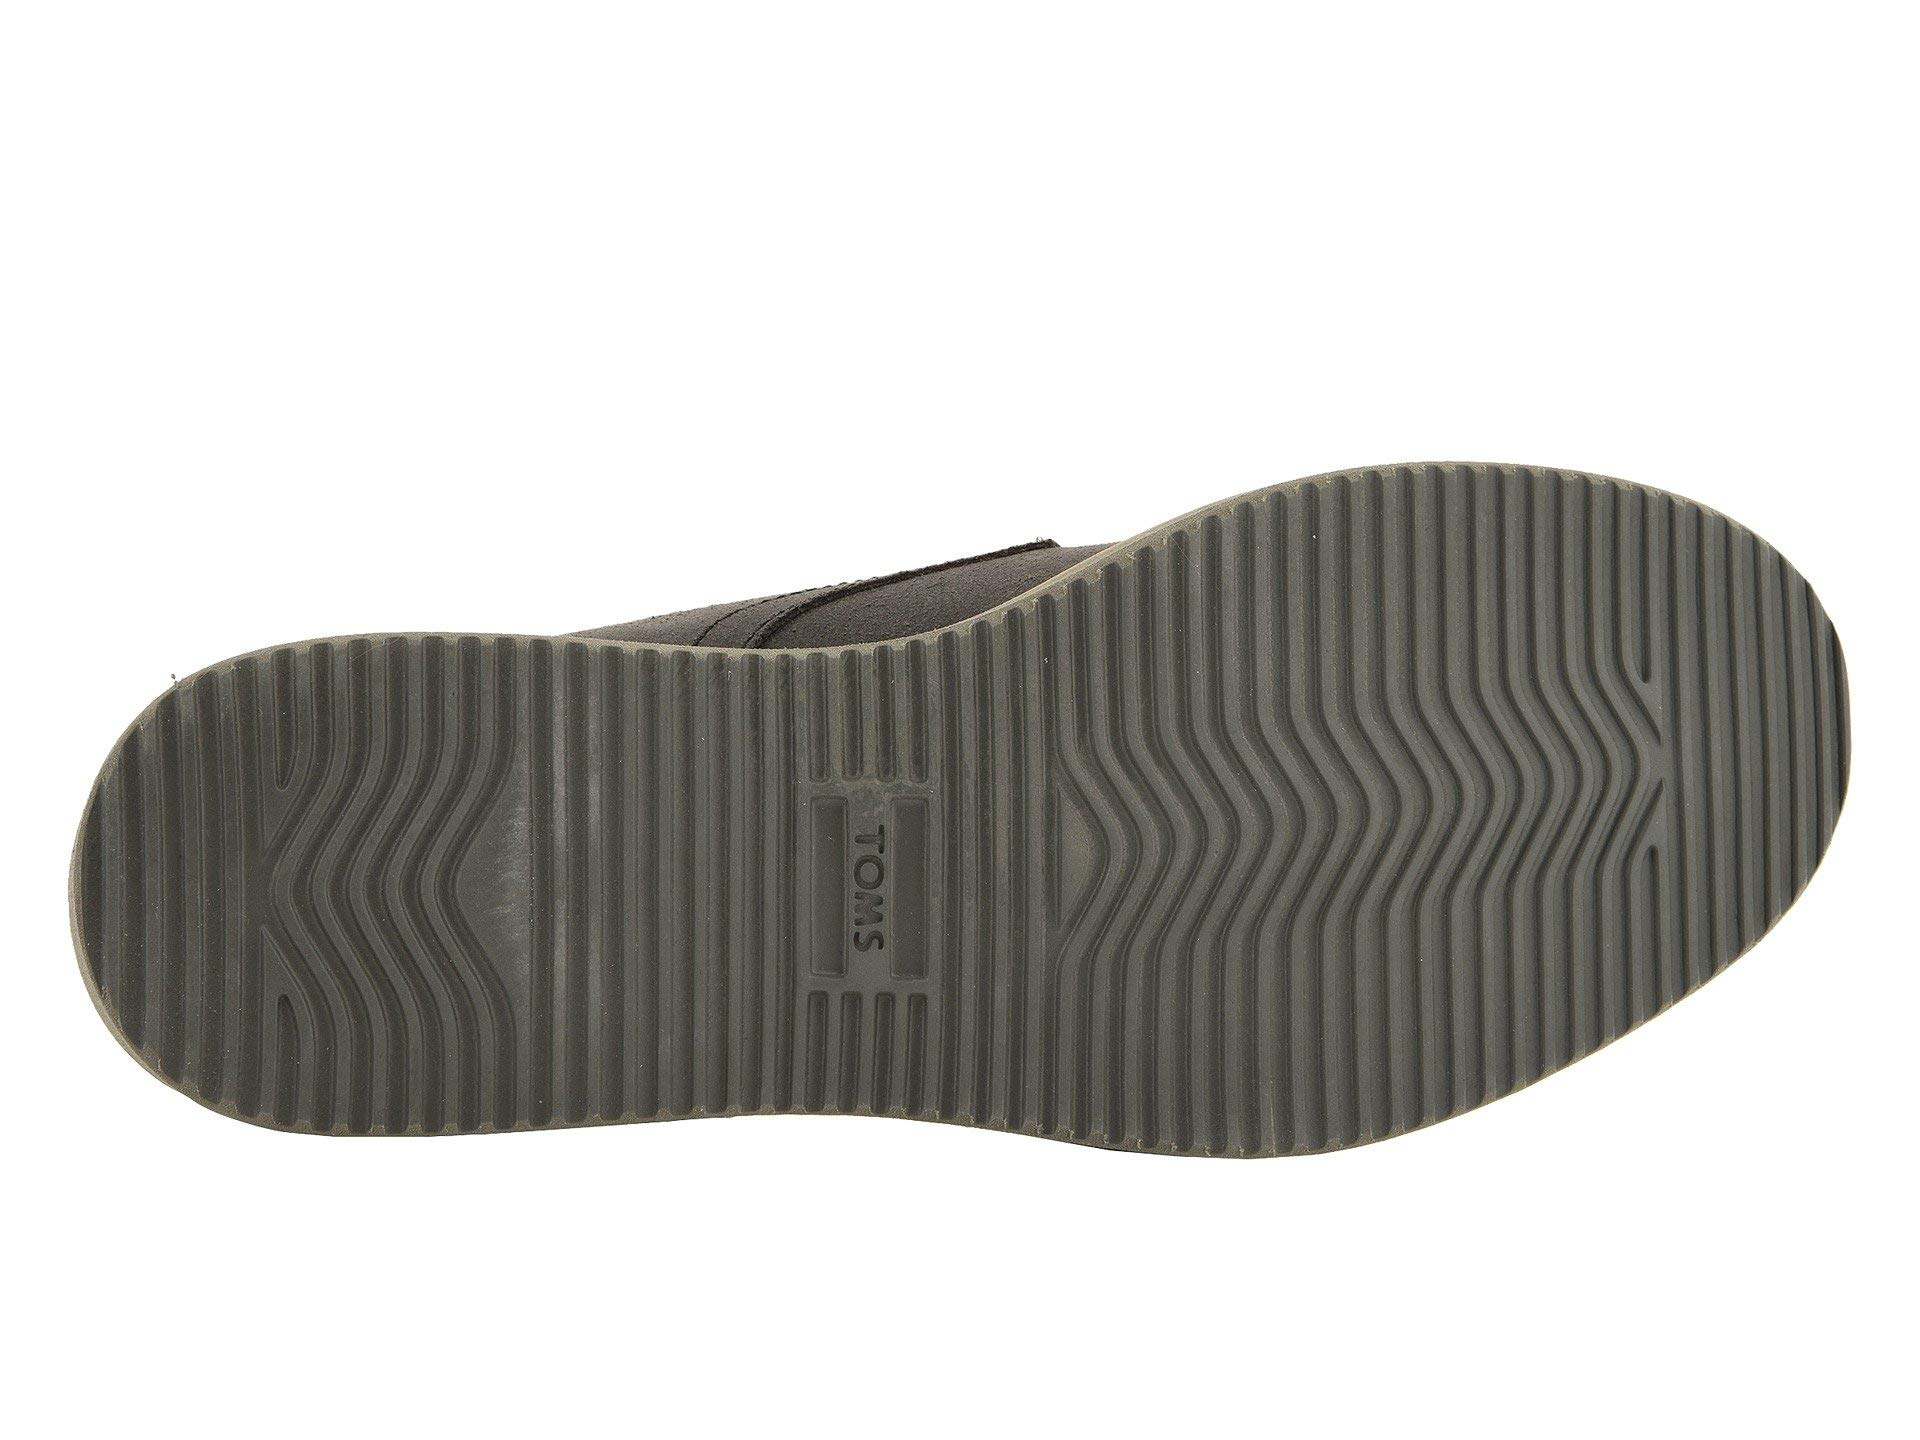chevron: (992, 681, 1395, 1054), (327, 734, 618, 1041)
circle: (724, 740, 955, 1030)
line: (992, 681, 1395, 1054), (327, 734, 618, 1041)
quad: (724, 740, 955, 1030)
text: (724, 740, 955, 1030)
triangle: (992, 681, 1395, 1054), (327, 734, 618, 1041)
